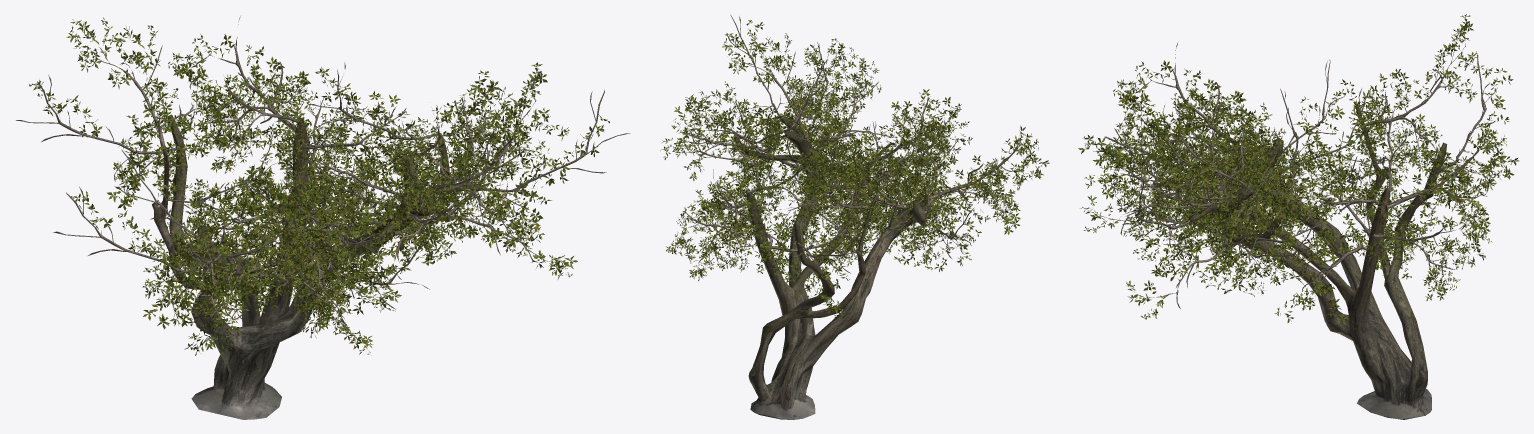
The model's file is tree-near.glb.
The picture shows the model from 3 angles, left to right: view 1: azimuth 30°, elevation 25°; view 2: azimuth 150°, elevation 25°; view 3: azimuth 270°, elevation 25°; orthographic projection. The views are drawn at different scales.
Parts seen in each view (by area): view 1: island_tree_02_LOD0; view 2: island_tree_02_LOD0; view 3: island_tree_02_LOD0.
Boxes of the visible parts, x1,y1,x2,y2 form: island_tree_02_LOD0: [16, 16, 630, 419]; island_tree_02_LOD0: [660, 14, 1049, 419]; island_tree_02_LOD0: [1078, 14, 1518, 419].
Size of the model in its own units: 4.21 by 3.41 by 4.07.
Materials: 3 (3 with a texture image).
